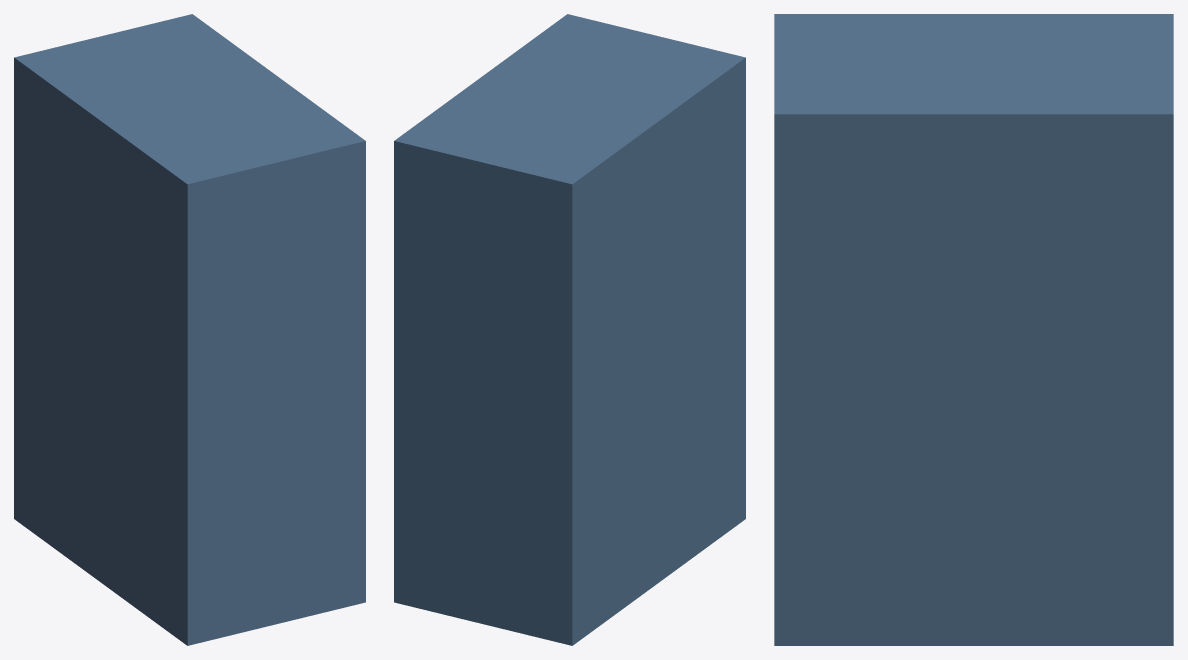
The model's file is livro_1.glb.
3 renders of one model, left to right at view 1: azimuth 30°, elevation 25°; view 2: azimuth 150°, elevation 25°; view 3: azimuth 270°, elevation 25°, orthographic. The views are drawn at different scales.
Parts seen in each view (by area): view 1: Livro; view 2: Livro; view 3: Livro.
Part boxes in pixels (bbox=[...]): Livro: bbox=[14, 14, 365, 645]; Livro: bbox=[394, 14, 745, 645]; Livro: bbox=[774, 14, 1173, 645].
Bounding box in the file's own units: 0.19 × 0.47 × 0.32.
